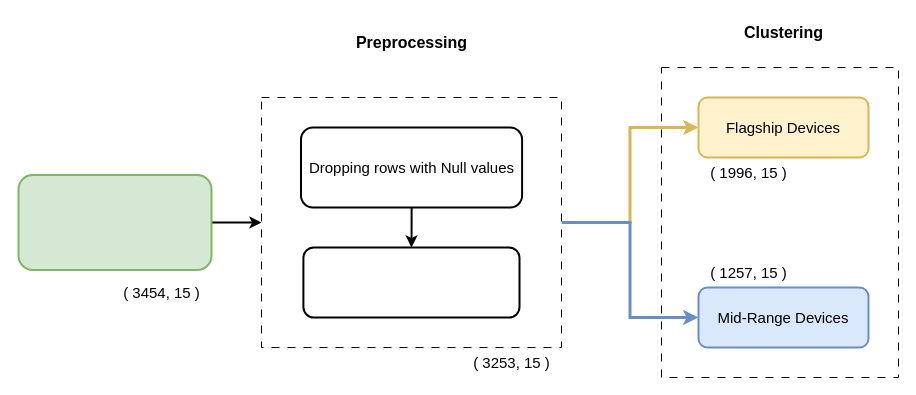
Some shapes in this 916 by 395 pixel diagram are drawn without their labels. Each missing label, with the centre of its shape:
Label Encoding based on "OS" Feature: point 411,282
Original Dataset: point 114,222
